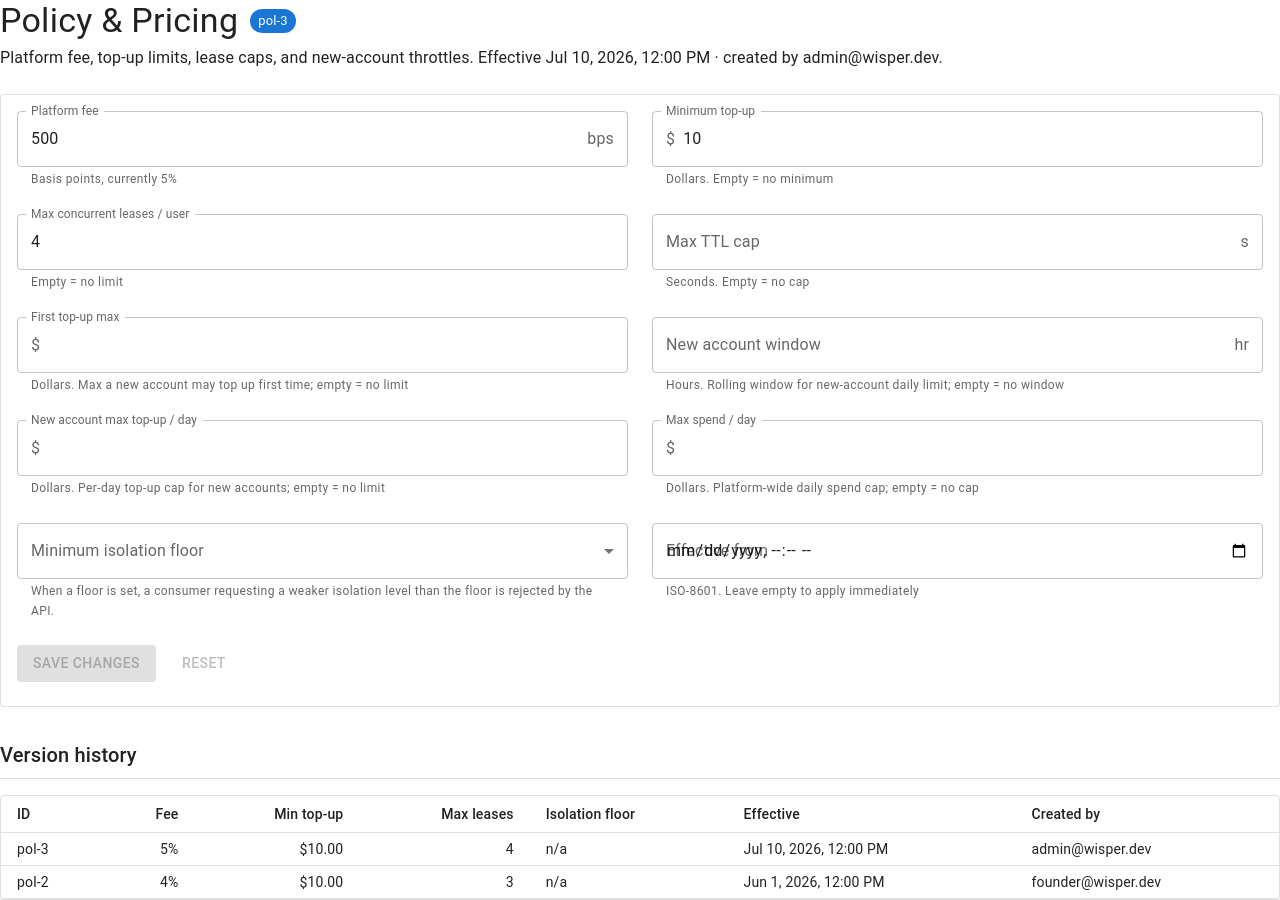
Test: PolicyEditor › saves edits via updatePolicy with correct field names and sends cents
Replace the text in the number field labelled "Minimum top-up" with "20" at (973, 139), box top-left (683, 111), bottom-right (1263, 167)
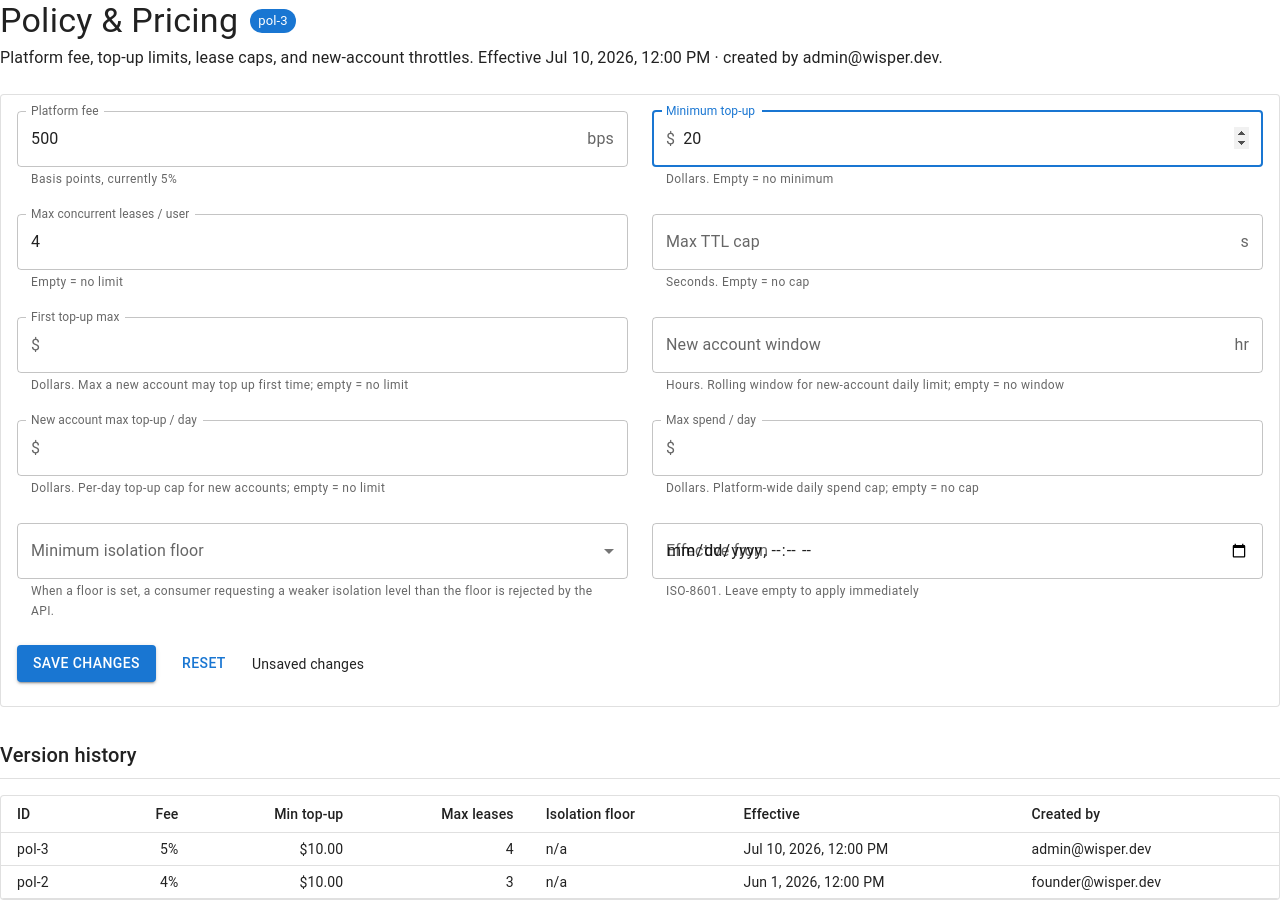
Click the button "Save changes" at (86, 664), box top-left (17, 645), bottom-right (156, 682)
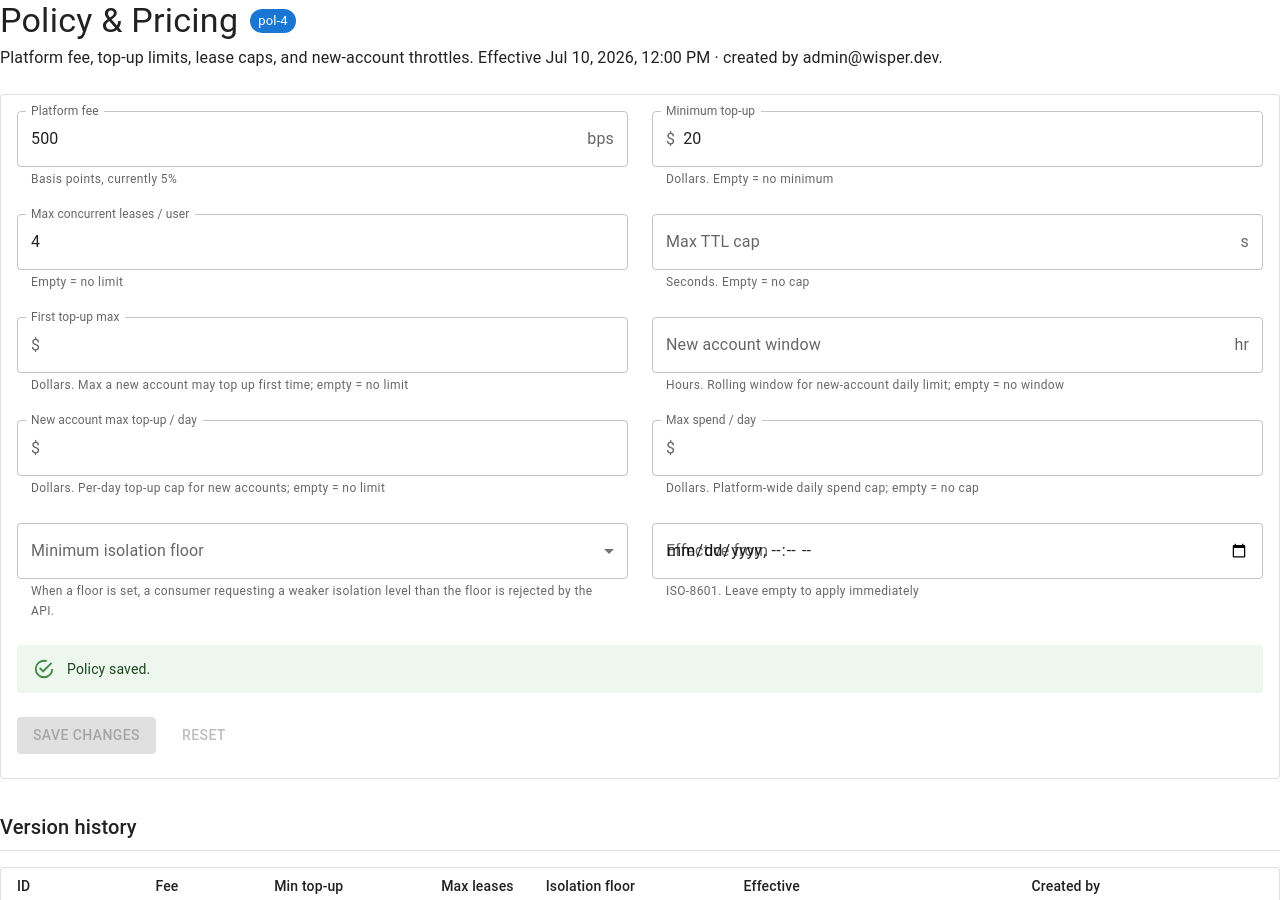
Now the text "Policy saved." is shown, box top-left (67, 661), bottom-right (150, 677)
